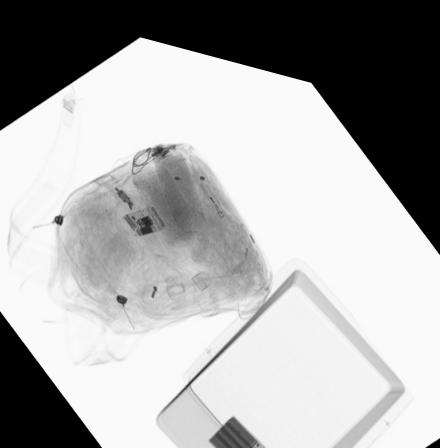Lighter: (194, 166, 228, 207)
